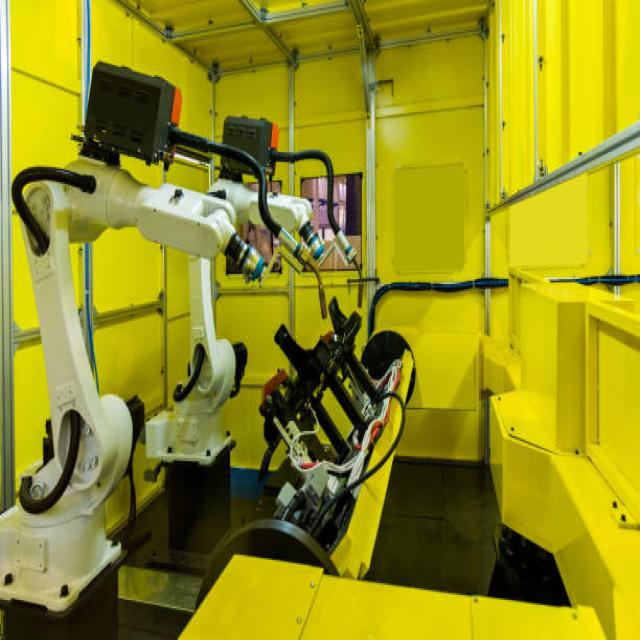Robotic-arm: (0, 138, 265, 530), (174, 168, 332, 418)
